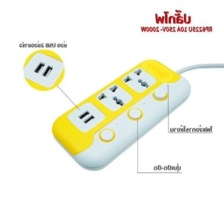three_eye_plug: (49, 53, 195, 172), (21, 48, 65, 92)
